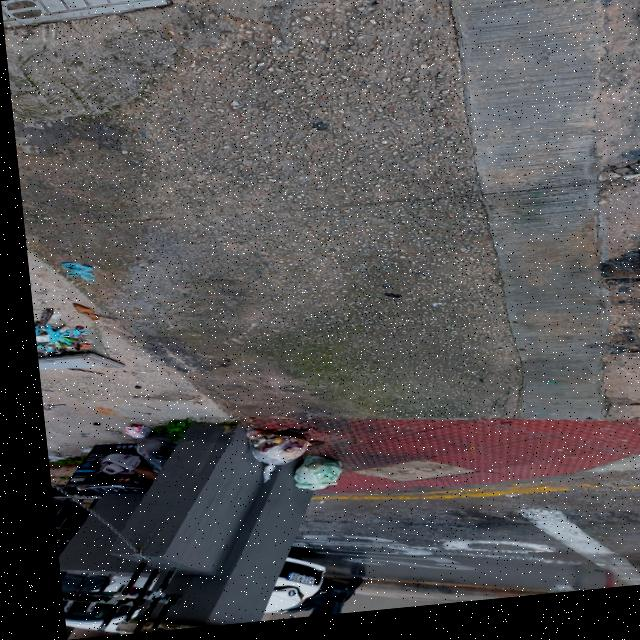Organic Waste -White Bag-: (234, 429, 302, 473), (279, 457, 333, 497)
Other: (46, 422, 161, 497)
